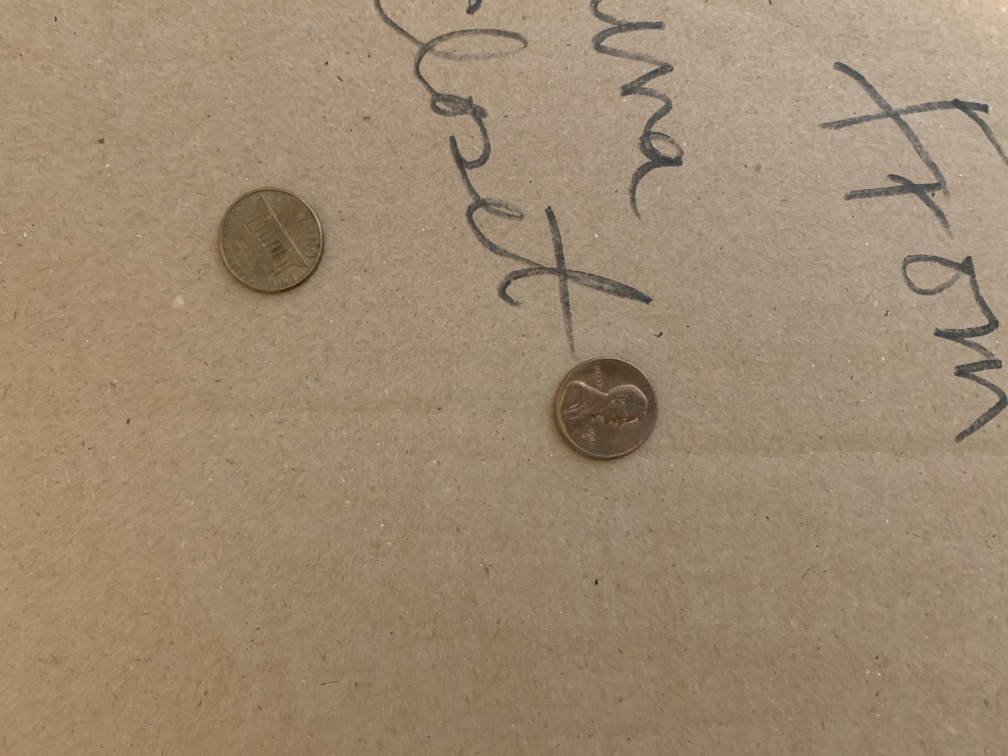penny: (215, 186, 326, 299), (549, 355, 660, 465)
